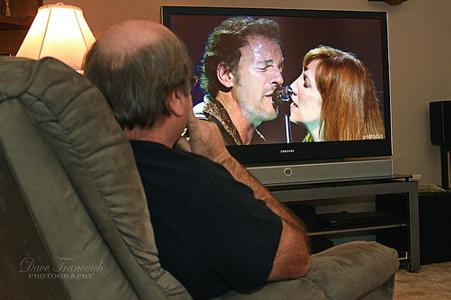person: (84, 20, 312, 293)
